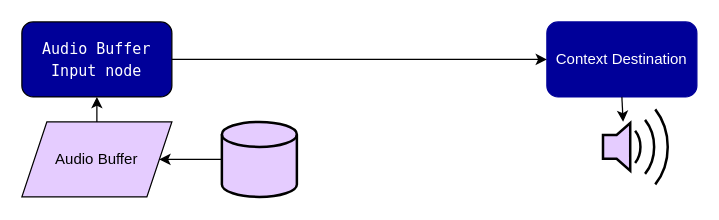
Some shapes in this 719 by 220 pixel diagram are drawn without their labels. The box of each missing label's shape, as (x1, y1, x2, y2) in pixels:
File tau.aac: (220, 120, 298, 198)
Speaker: (601, 108, 672, 185)
